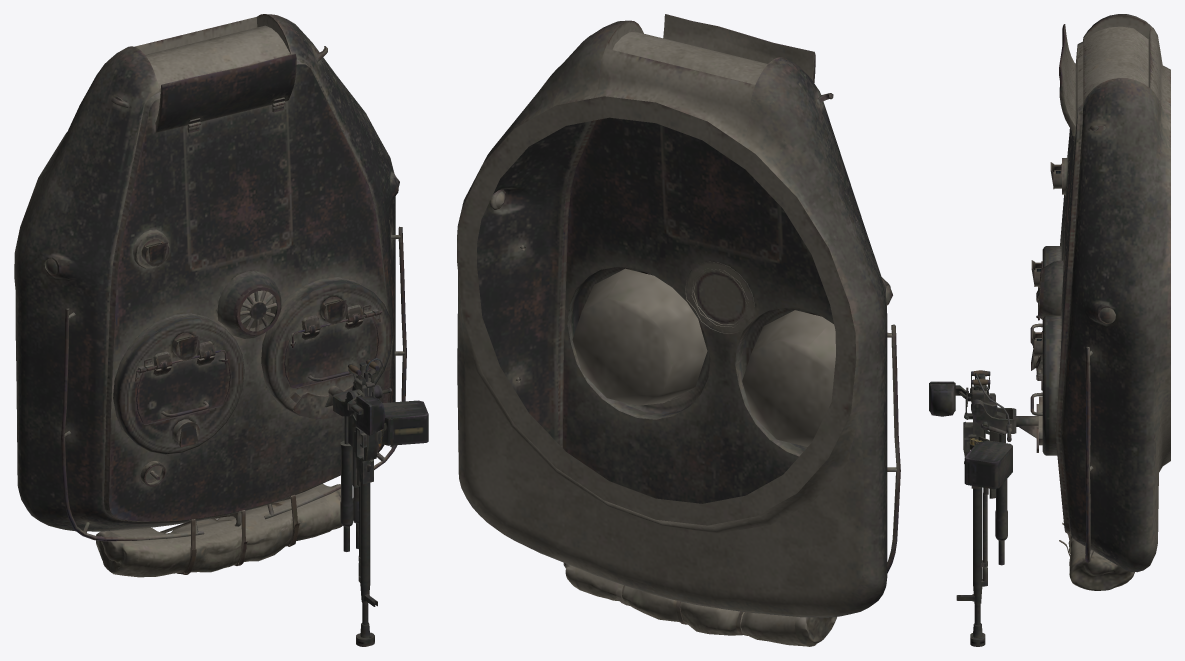
Rendered from Turret_01.glb.
3 renders of one model, left to right at view 1: azimuth 30°, elevation 25°; view 2: azimuth 150°, elevation 25°; view 3: azimuth 270°, elevation 25°, orthographic. The views are drawn at different scales.
Visible parts, largest first — view 1: set_0_group_0; view 2: set_0_group_0; view 3: set_0_group_0.
Part boxes in pixels (x1,y1,x2,y2): set_0_group_0: [14, 14, 428, 646]; set_0_group_0: [457, 14, 900, 646]; set_0_group_0: [929, 14, 1170, 646].
Bounding box in the file's own units: 2.35 × 3.48 × 1.37.
Materials: 1 (1 with a texture image).
